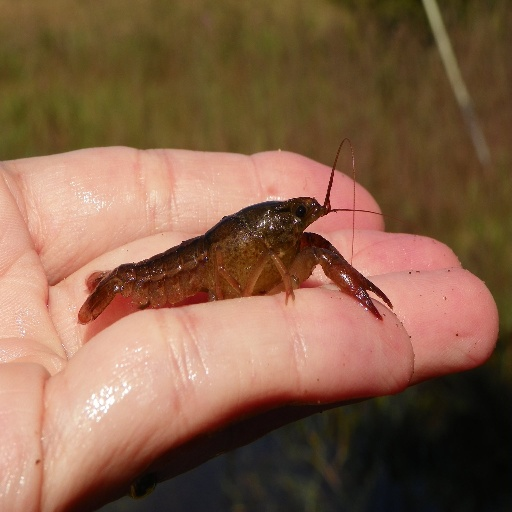hand: (24, 160, 492, 418)
